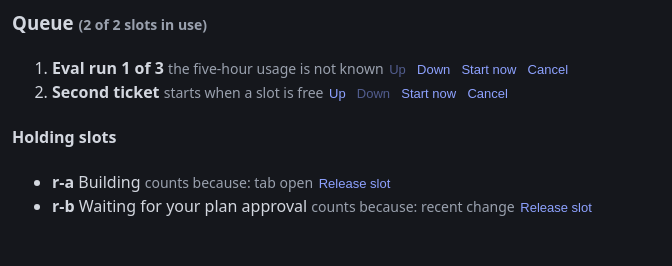
Test case: QueueSection › tells that the usage hold still applies to Start now for an eval entry, and shows a held entry's reason
This screenshot has width=672, height=266.
Later steps or results of the test are not shown.
Expected: the list item with test id "queue-q-e1" shows "the five-hour usage is not known", [168, 58, 384, 78]
Click the button "Start now" in the row of "Eval run 1 of 3" at coordinates (489, 69), box [456, 62, 522, 76]
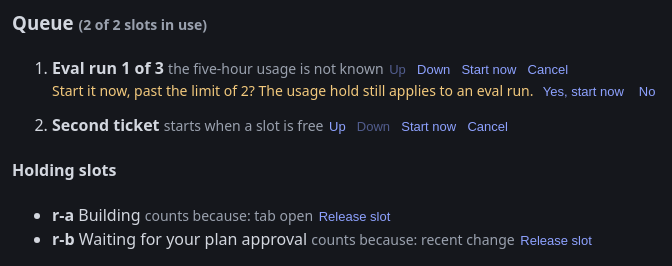
Expected: the message shows "The usage hold still applies to an eval run.", [255, 80, 534, 100]
